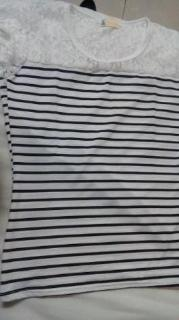short sleeve top: (0, 0, 179, 302)
